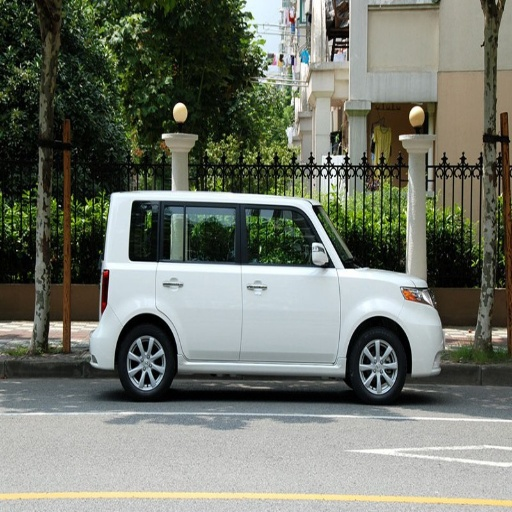back_right_door: (157, 202, 242, 360)
trunk: (353, 275, 439, 367)
